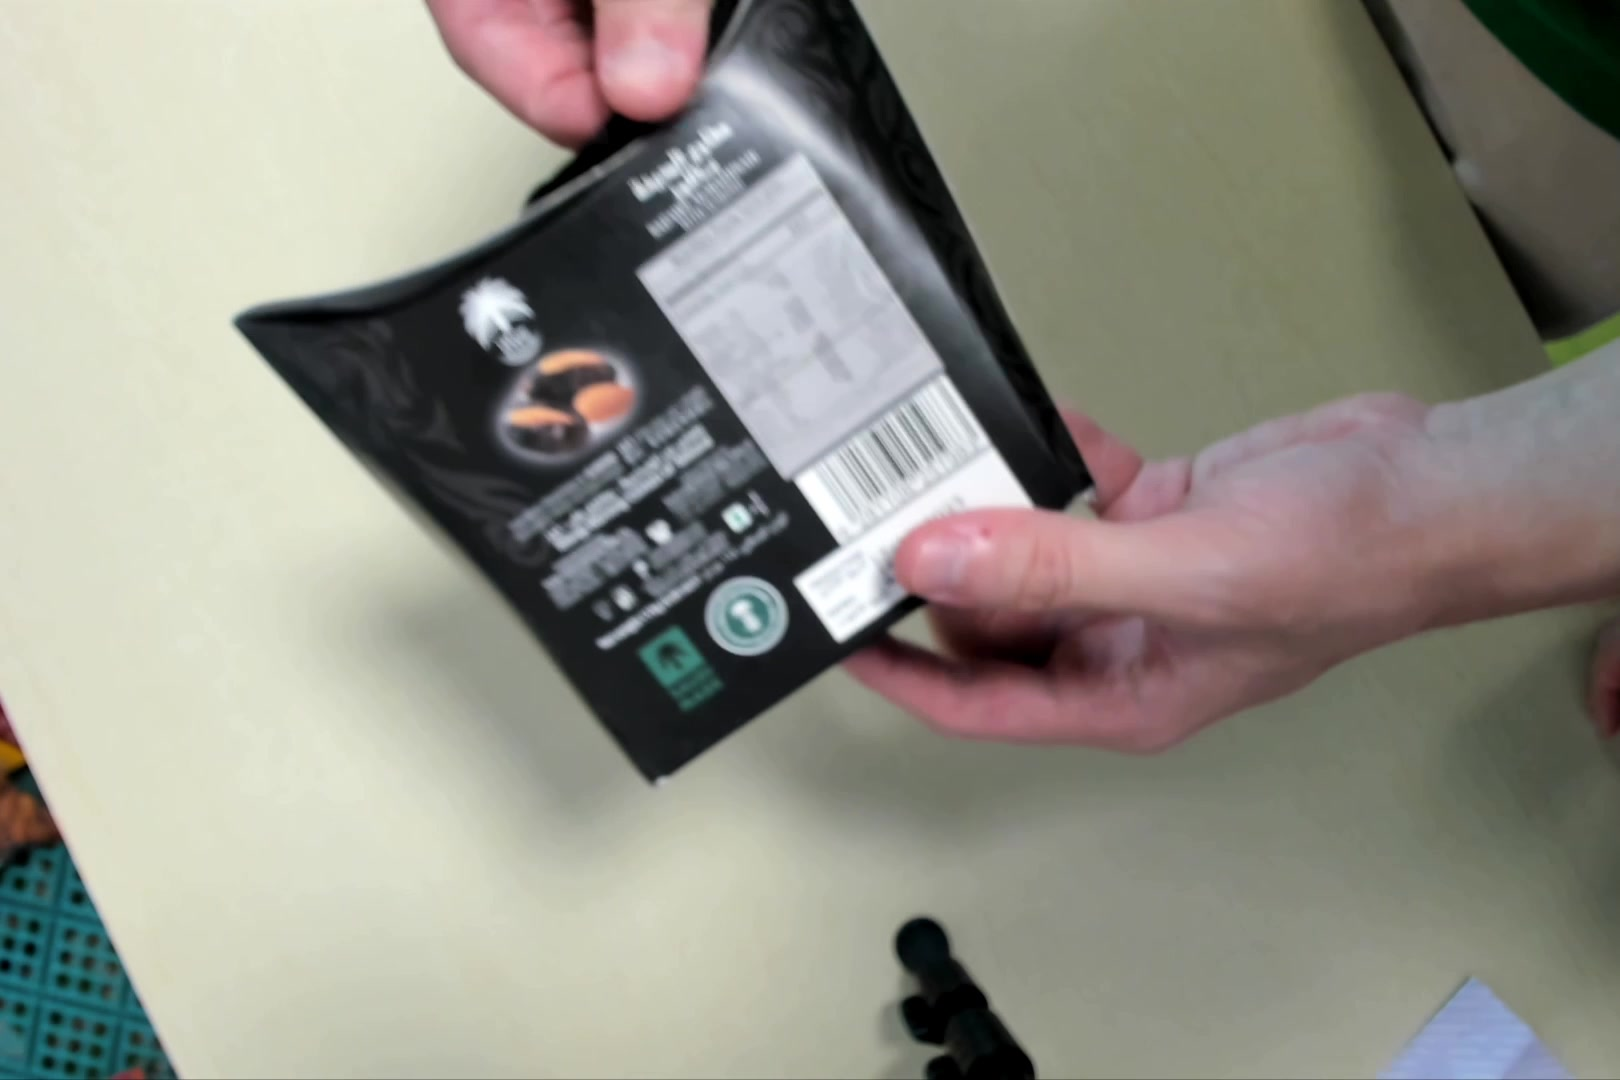DriedFood_100-199g_NonHalal_NonHealthy: (235, 10, 1093, 799)
